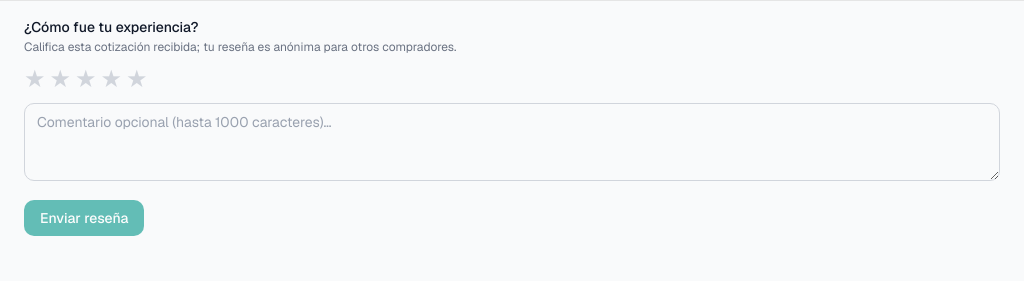
FormularioFeedback › traduce FEEDBACK_NO_AUTENTICADO al español
What coordinates should you click on to do the following:
click the radio button named "4 estrellas"
I would click on:
 (111, 79)
Its box is [100,67,122,91].
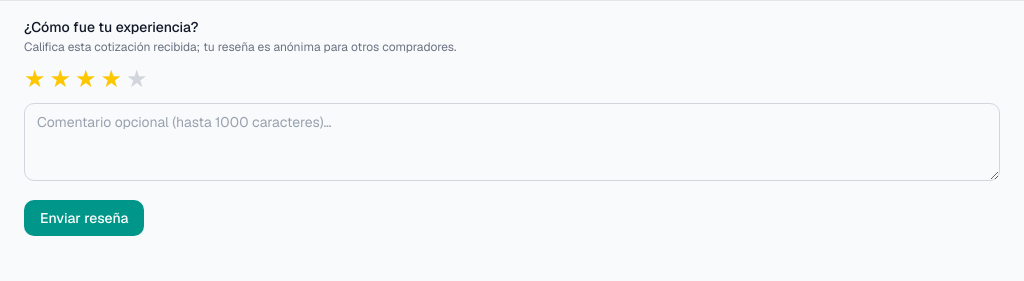
What coordinates should you click on to do the following:
click the button "Enviar reseña"
I would click on:
 (84, 218)
Its box is [24,200,144,236].
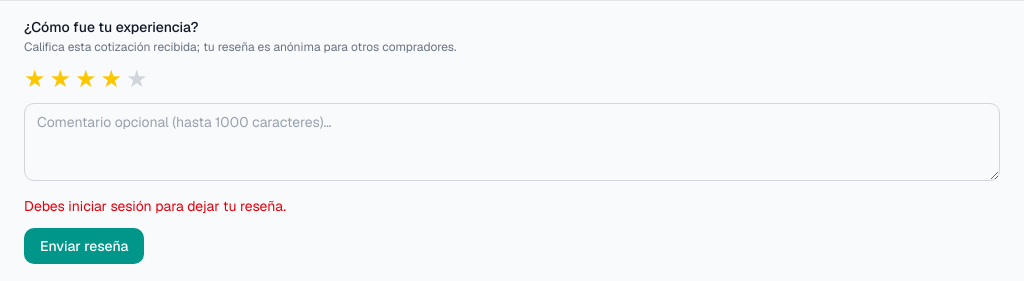
Expected: the button "Enviar reseña" is enabled, [24,228,144,264]
Expected: the message reads "Debes iniciar sesión para dejar tu reseña.", [24,197,286,215]
